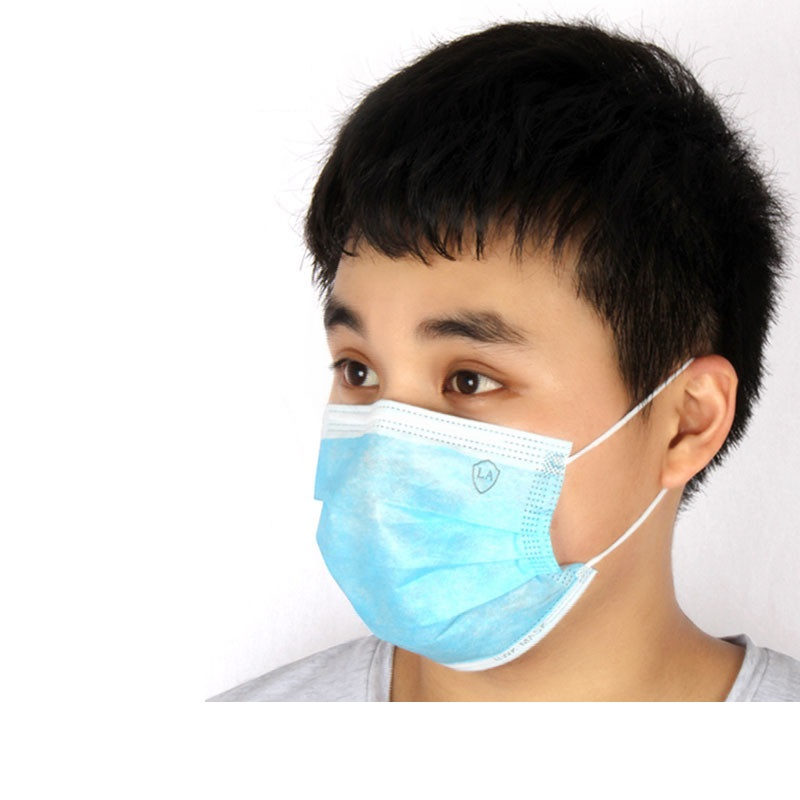face_mask: (315, 214, 631, 637)
